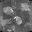people: (0, 16, 12, 29), (2, 7, 14, 16), (14, 16, 22, 25)
